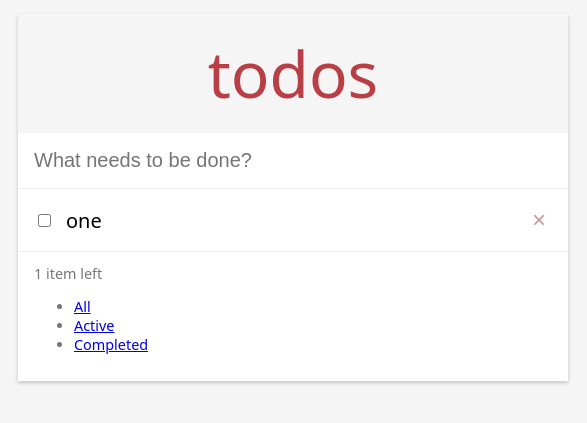
Test: checkbox toggles completed, strikethrough class and count
Click the checkbox at point(44, 220), box x1=38 y1=214 x2=51 y2=226
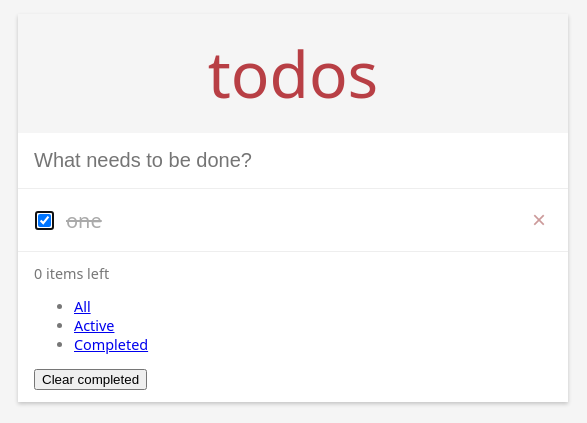
Now the checkbox is checked
Now the text "0 items left" is shown, box x1=34 y1=264 x2=109 y2=283
Click the checkbox at point(44, 220), box x1=38 y1=214 x2=51 y2=226
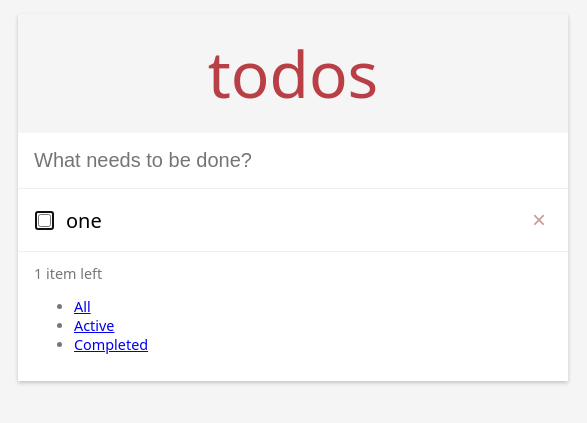
Now the text "1 item left" is shown, box x1=34 y1=264 x2=102 y2=283
